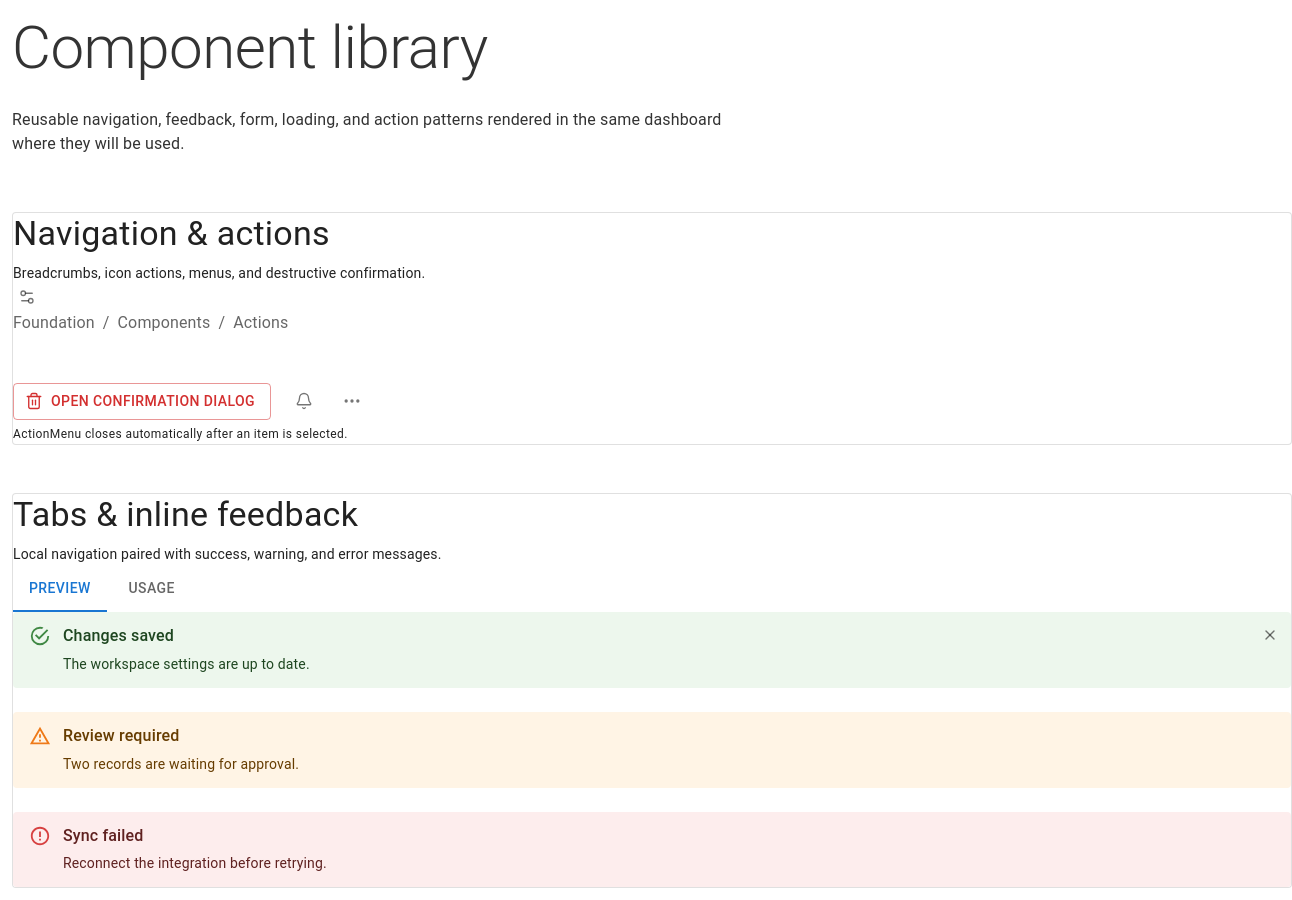
Test: ComponentShowcase › switches tab content
Click the tab "Usage": click(152, 588) [107,564,197,612]
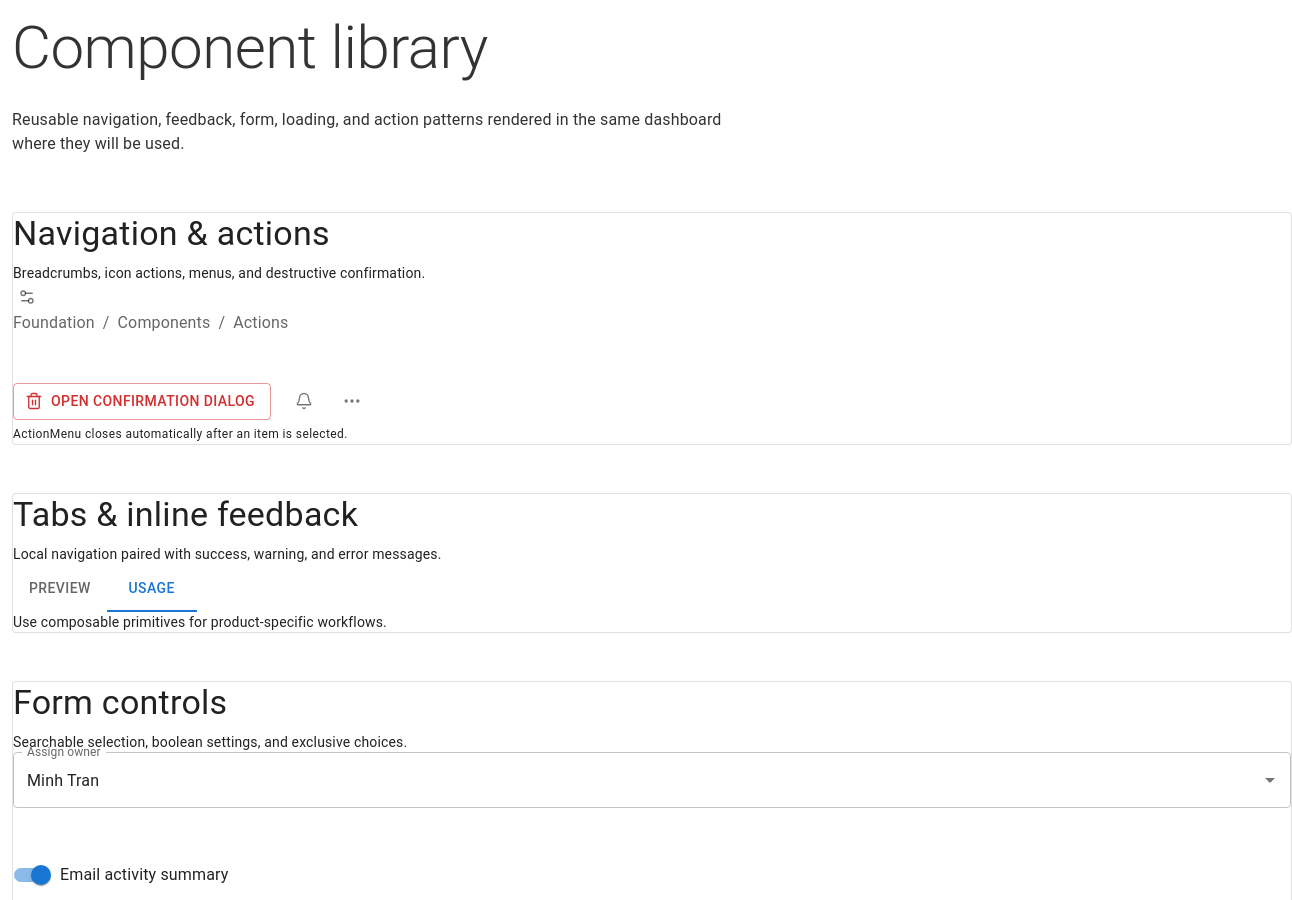
Now the text "Use composable primitives for product-specific workflows." is shown, box [13,614,387,630]
